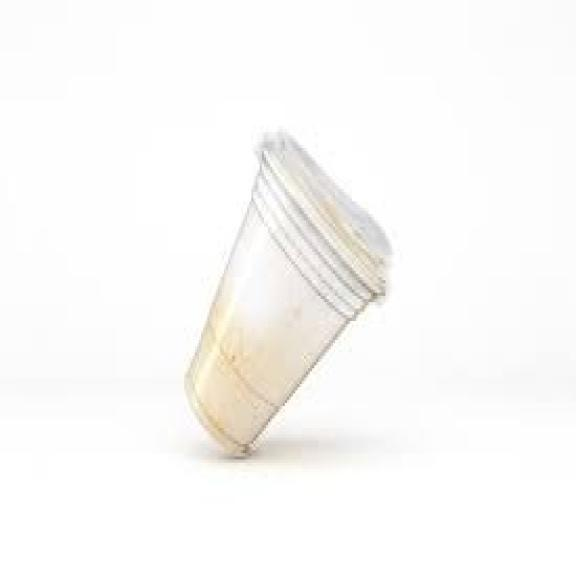Plastik: (187, 133, 389, 446)
